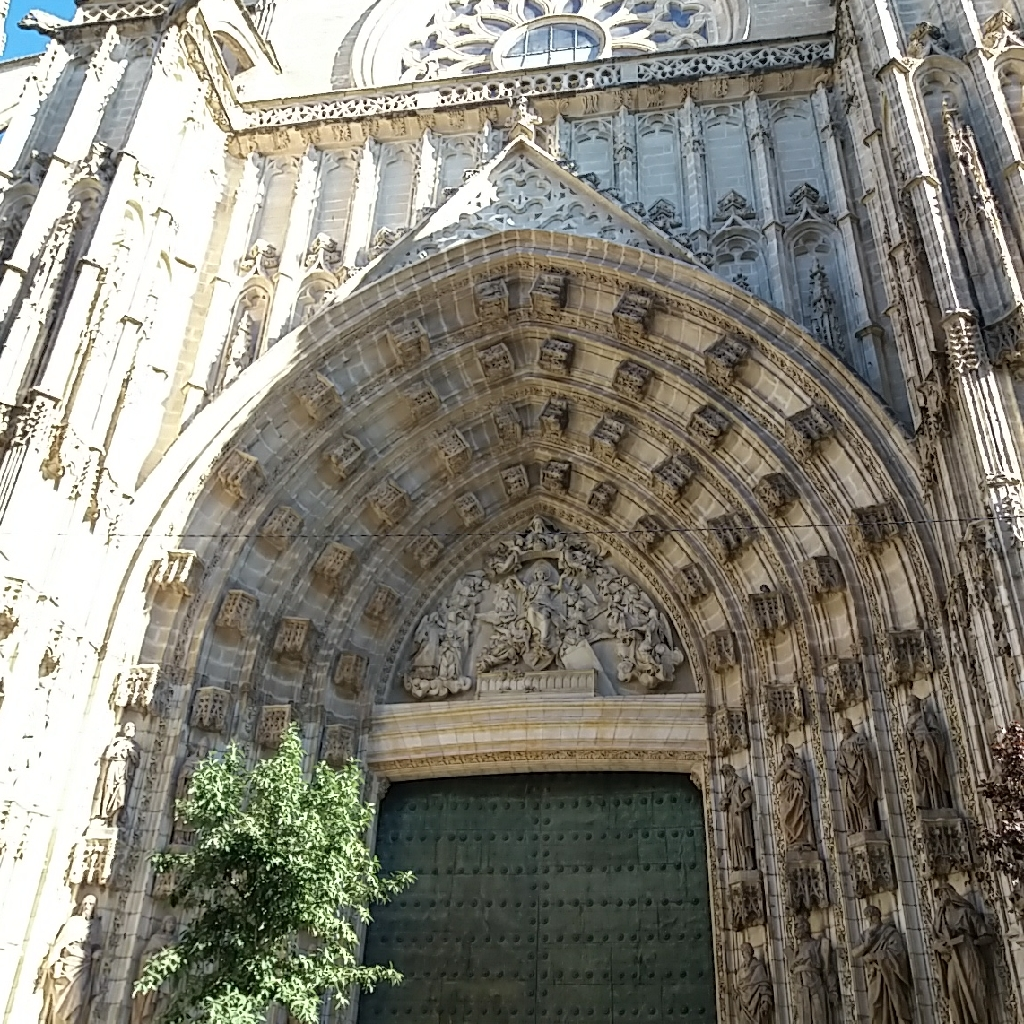arco-apuntado: (153, 291, 866, 680)
